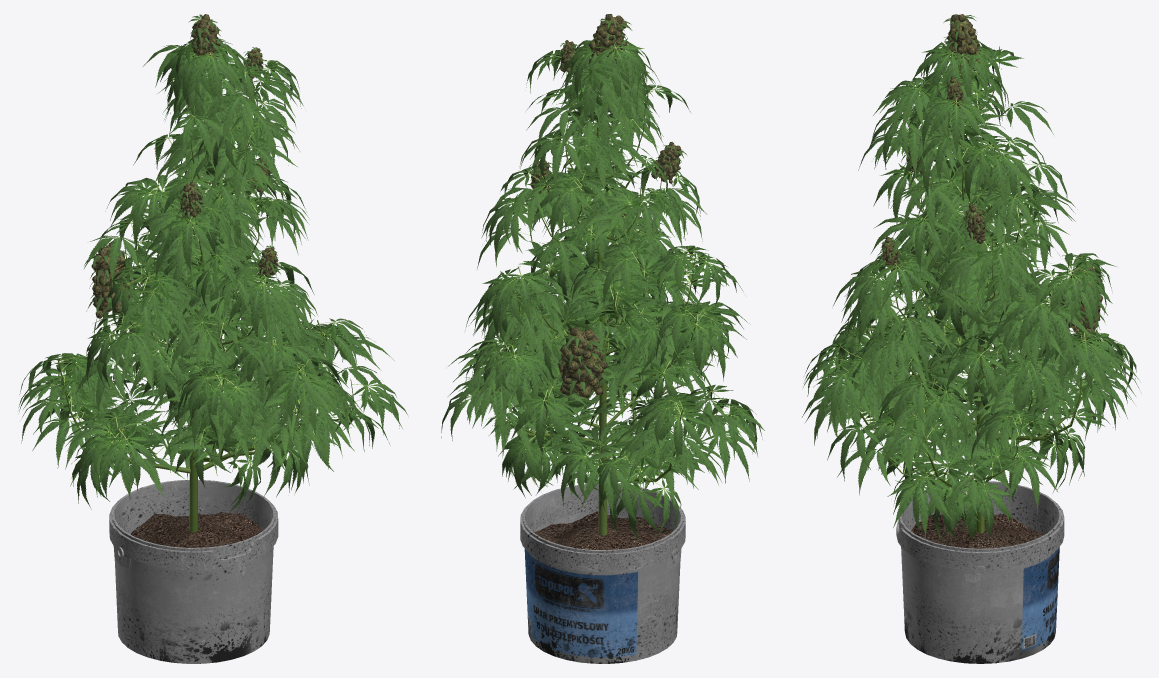
3 views of the same model, side by side, from view 1: azimuth 30°, elevation 25°; view 2: azimuth 150°, elevation 25°; view 3: azimuth 270°, elevation 25° (orthographic).
Parts seen in each view (by area): view 1: sativa_plant_texture, bucket_texture; view 2: sativa_plant_texture, bucket_texture; view 3: sativa_plant_texture, bucket_texture.
Boxes of the visible parts, <box> form: sativa_plant_texture: <box>18,14,407,532</box>; bucket_texture: <box>109,479,278,663</box>; sativa_plant_texture: <box>441,14,764,542</box>; bucket_texture: <box>520,484,685,663</box>; sativa_plant_texture: <box>802,14,1139,544</box>; bucket_texture: <box>896,481,1064,663</box>.
Bounding box in the file's own units: 0.5488 × 1.05 × 0.5335.
2 materials, 2 textured.
